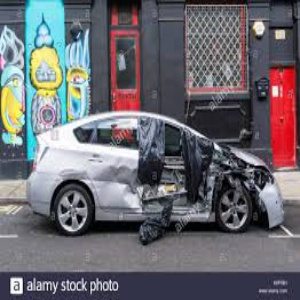door: (96, 159, 211, 219)
